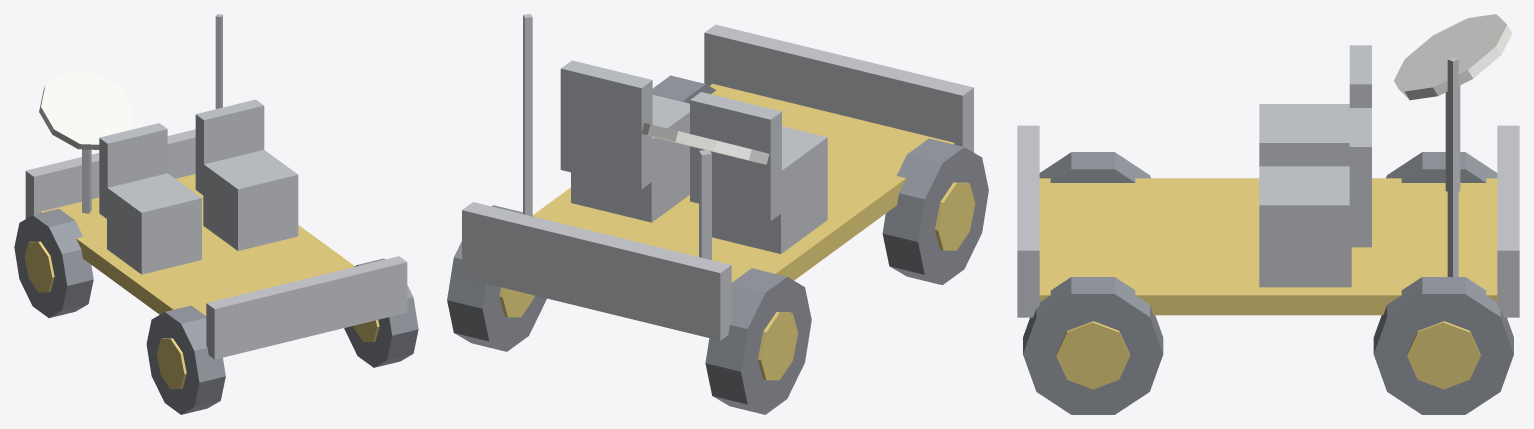
The model's file is arena_rover.glb.
3 renders of one model, left to right at view 1: azimuth 30°, elevation 25°; view 2: azimuth 150°, elevation 25°; view 3: azimuth 270°, elevation 25°, orthographic. The views are drawn at different scales.
Visible parts, largest first — view 1: arena_rover; view 2: arena_rover; view 3: arena_rover.
Part boxes in pixels (<box>): arena_rover: <box>14,14,418,414</box>; arena_rover: <box>447,14,988,414</box>; arena_rover: <box>1017,14,1519,414</box>.
Size of the model in its own units: 1.86 by 1.98 by 2.72.
